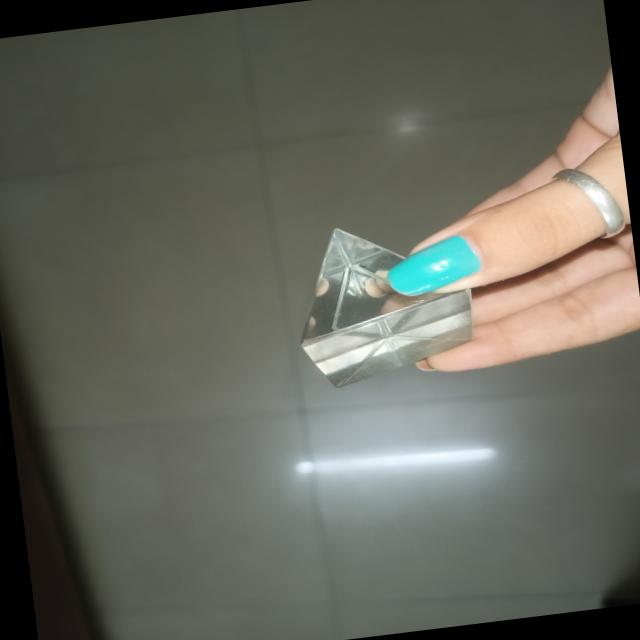glass: (280, 200, 498, 401)
